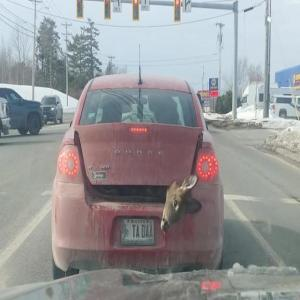Plate: (121, 218, 154, 245)
